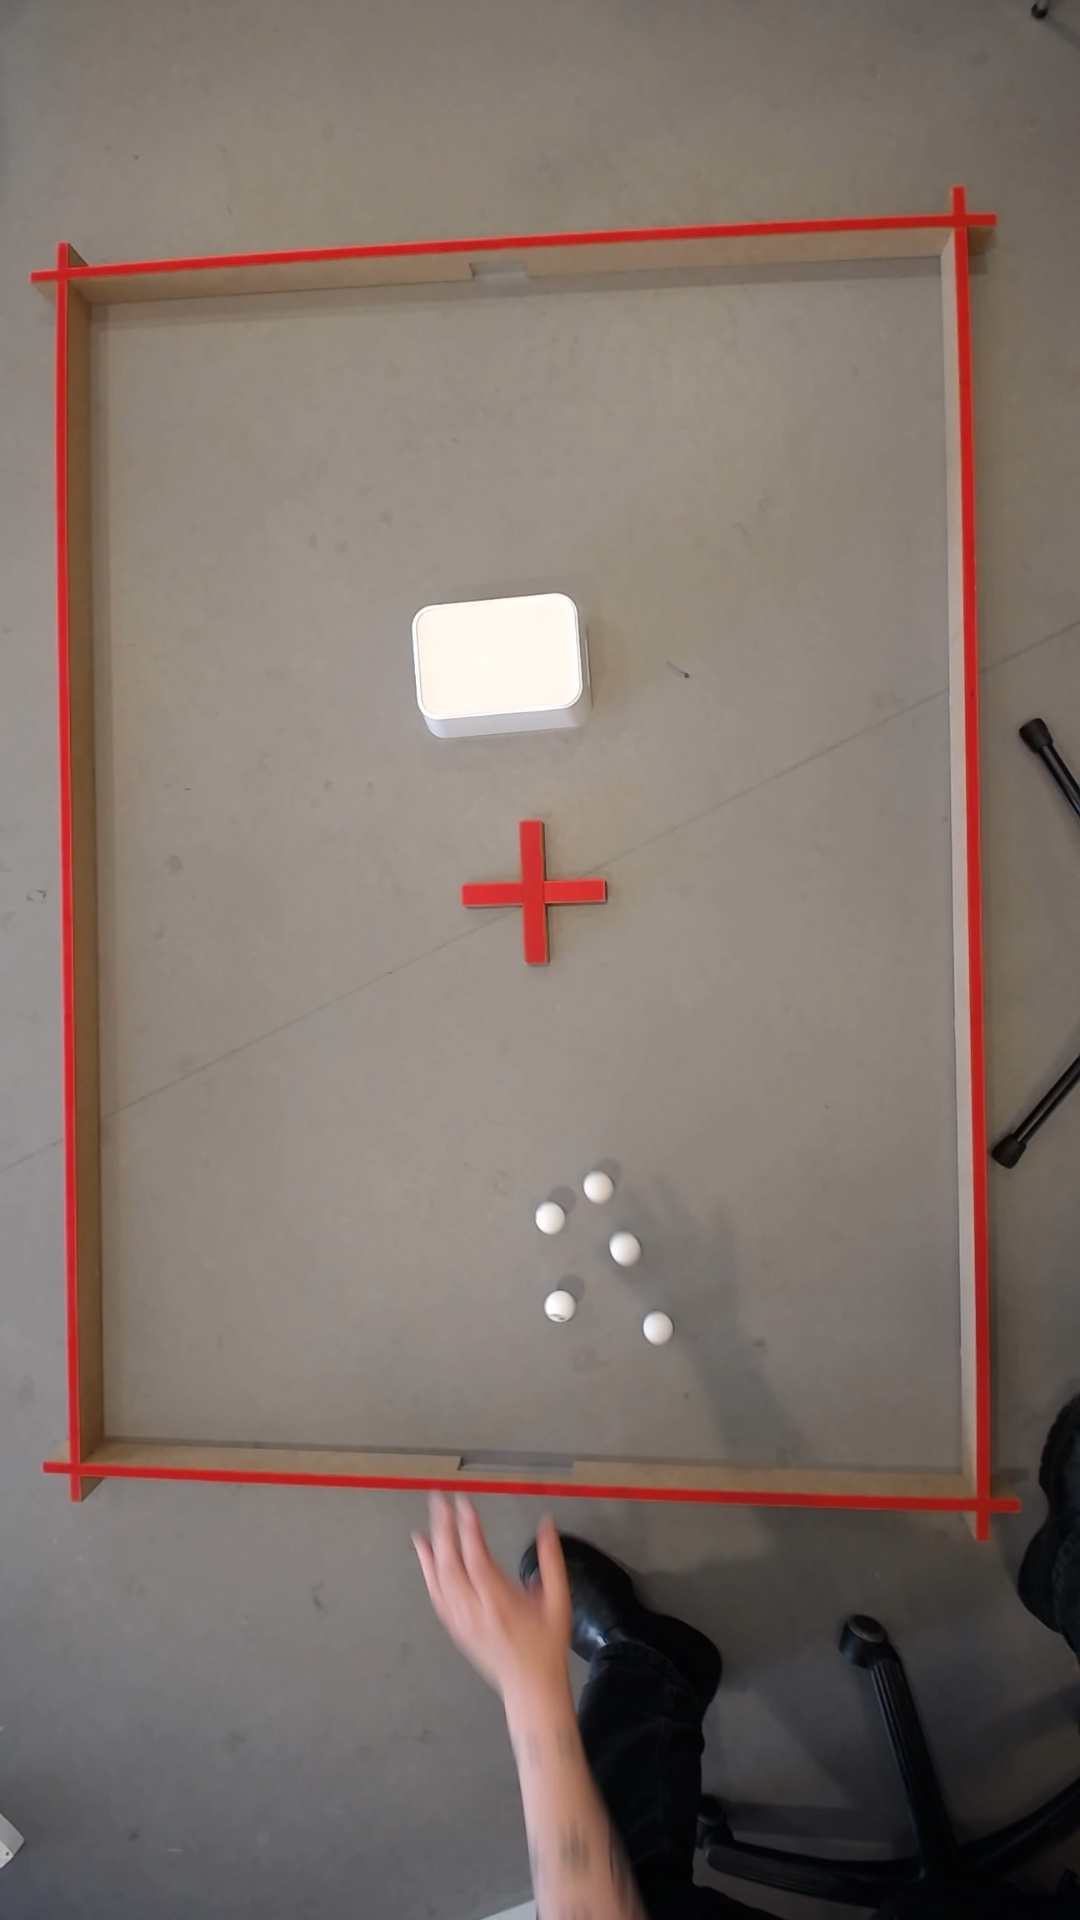balls: (406, 588, 587, 737), (498, 1676, 547, 1832), (529, 1199, 564, 1236), (604, 1232, 633, 1262), (543, 1290, 567, 1315), (584, 1175, 603, 1200)
car: (637, 1312, 665, 1341)
